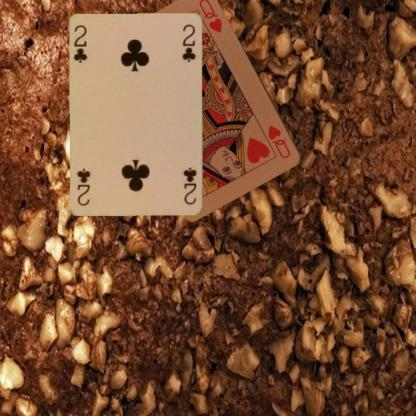2c: (181, 164, 198, 206), (72, 22, 89, 64)
Qh: (265, 123, 292, 160)
